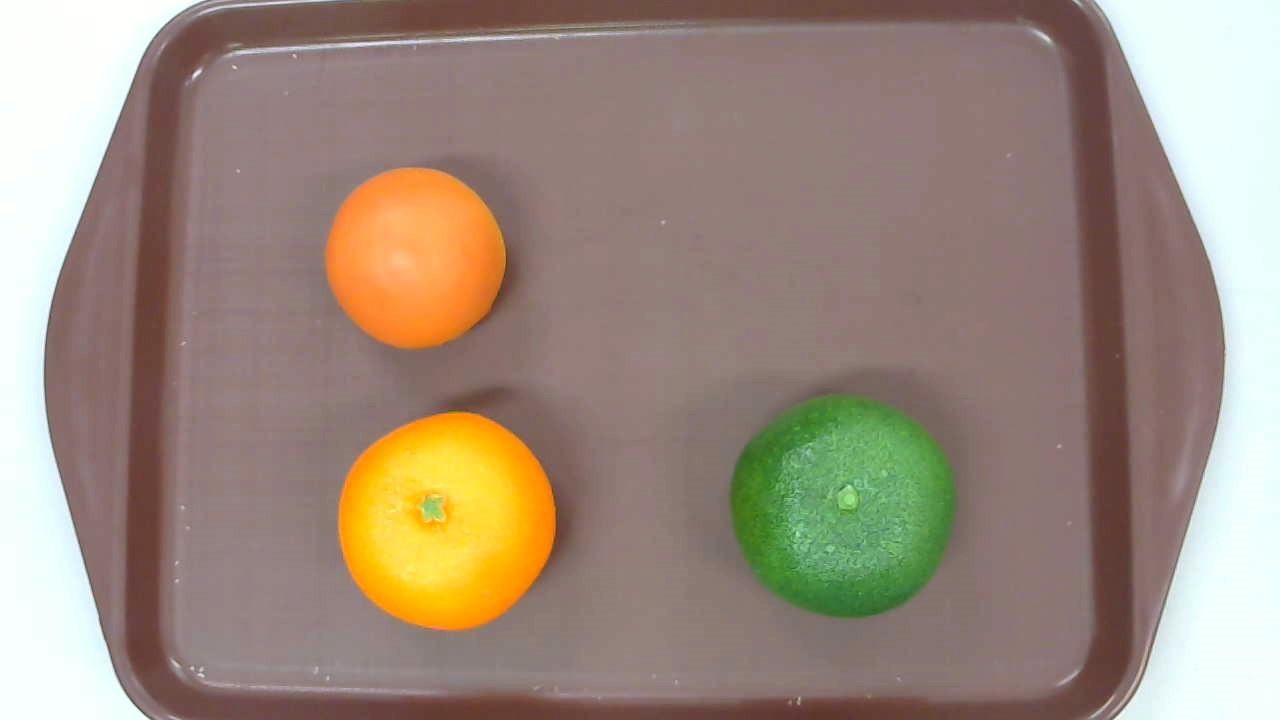bun: (326, 166, 507, 351)
green orange: (731, 392, 957, 617)
orange: (334, 412, 559, 629)
